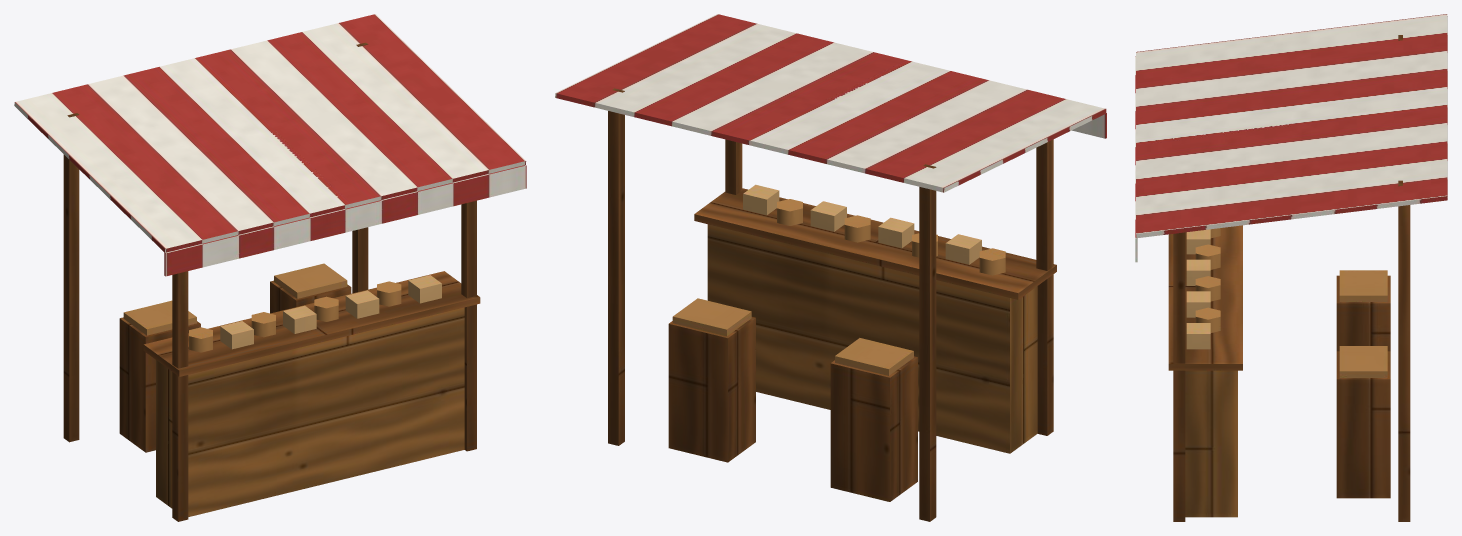
File: market_stall.glb
3 renders of one model, left to right at view 1: azimuth 30°, elevation 25°; view 2: azimuth 150°, elevation 25°; view 3: azimuth 270°, elevation 25°, orthographic. The views are drawn at different scales.
Visible parts, largest first — view 1: props_0_0; view 2: props_0_0; view 3: props_0_0.
Part boxes in pixels (left/top/right/bottom): props_0_0: left=14, top=14, right=526, bottom=521; props_0_0: left=555, top=14, right=1106, bottom=521; props_0_0: left=1135, top=14, right=1447, bottom=521.
Bounding box in the file's own units: 3.6 × 3.15 × 2.61.
1 material, 1 textured.
